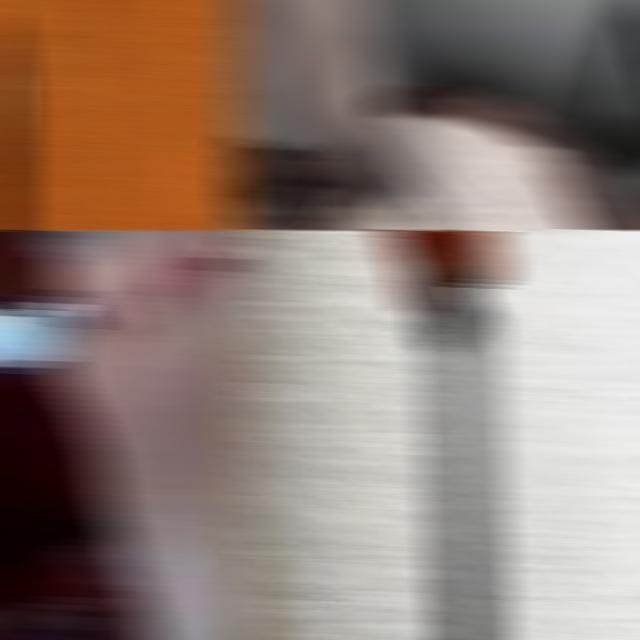Knife: (421, 247, 498, 640)
Knife_Handle: (348, 230, 552, 640), (234, 0, 479, 230), (0, 230, 246, 418)
